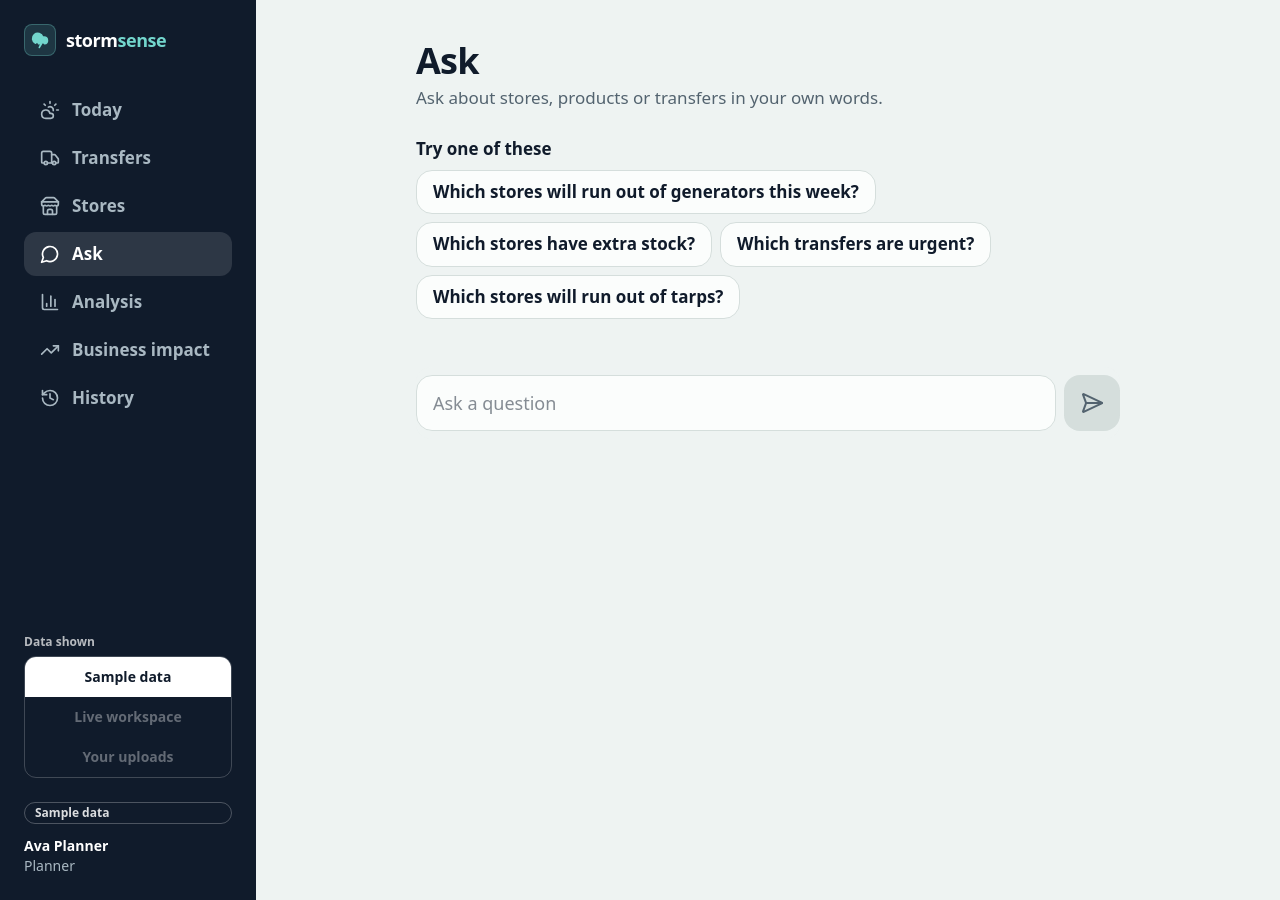
Scenario: Stores, Ask and History › falls back kindly
This screenshot has width=1280, height=900.
Type "What is the meaning of life?" into the field named "Your question" at (736, 403), box [416, 375, 1056, 431]
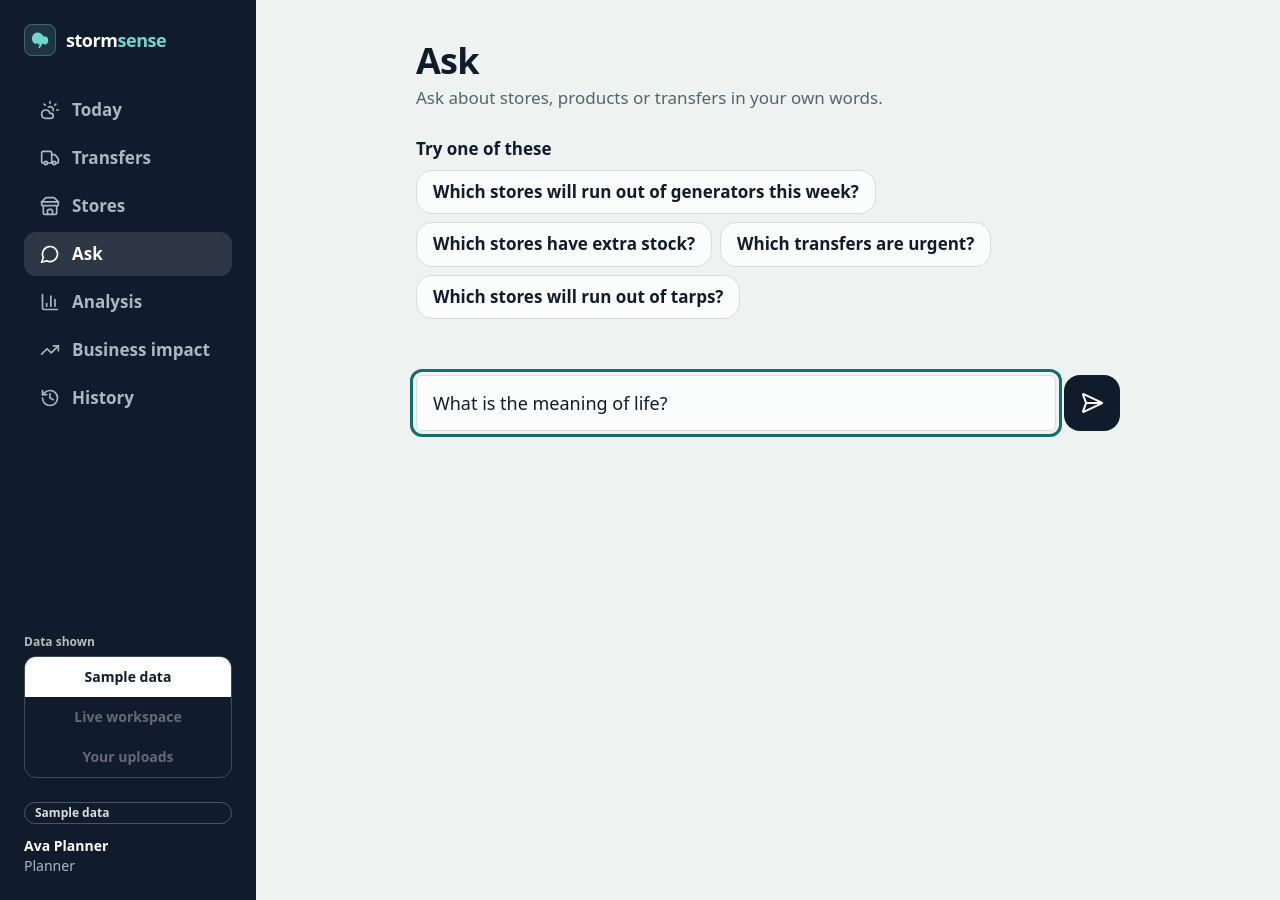
Click the button named "Ask" at (1092, 403), box [1064, 375, 1120, 431]
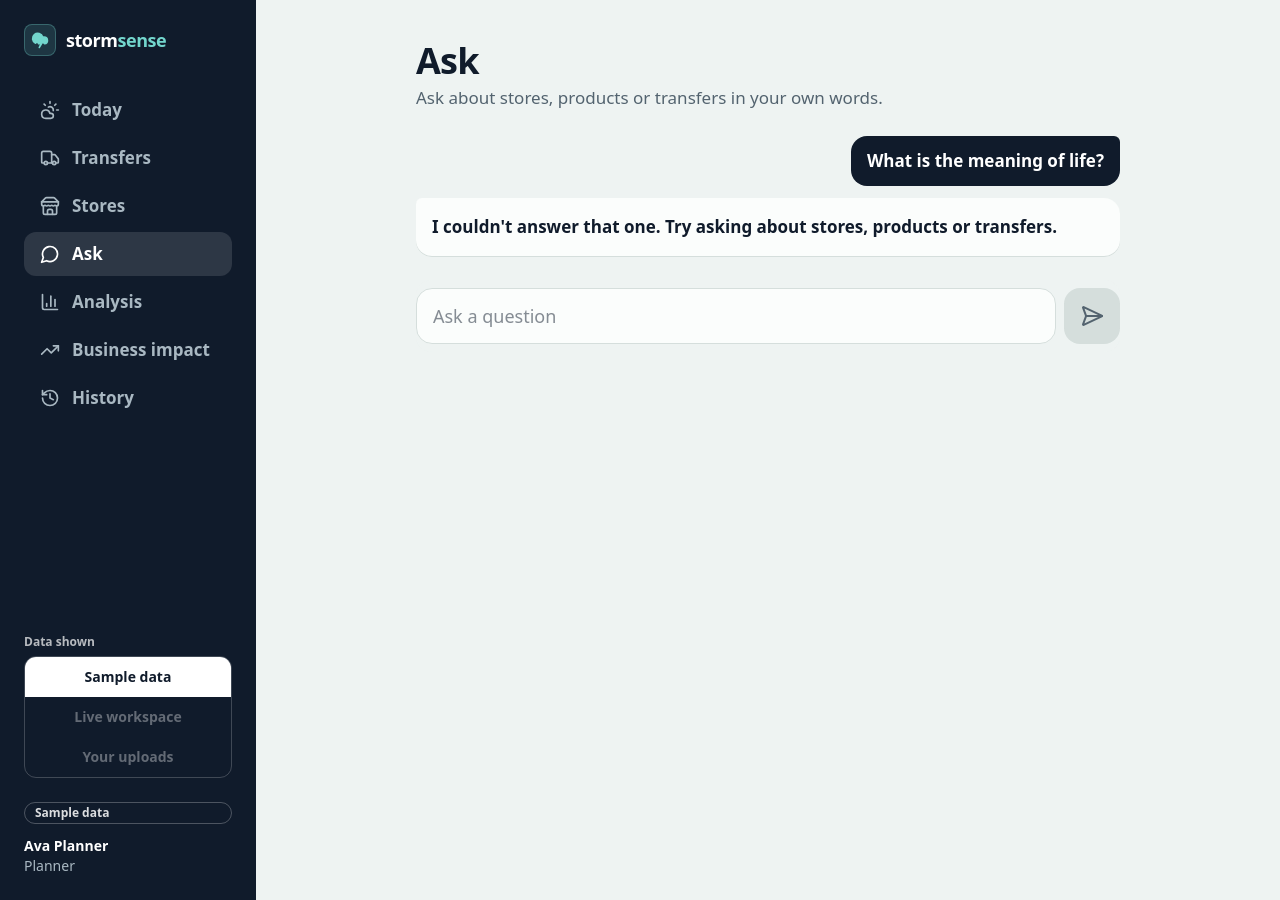
Expected: the text "Try asking about stores" is shown, [432, 215, 1057, 238]
